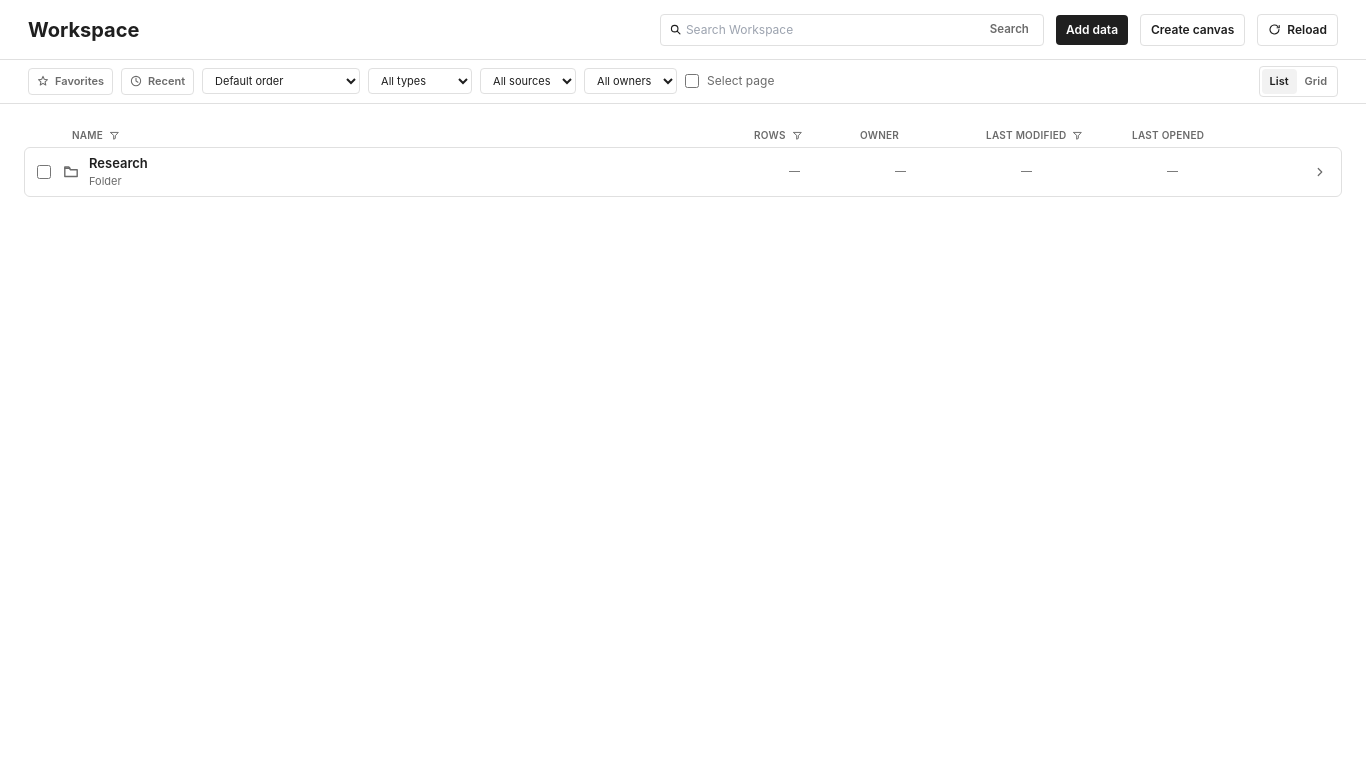
WorkspaceExplorer › exposes both add-data choices directly from All Workspace
This screenshot has width=1366, height=768.
Click the button with test id "workspace-add-data": (1092, 30) [1056,14,1128,44]
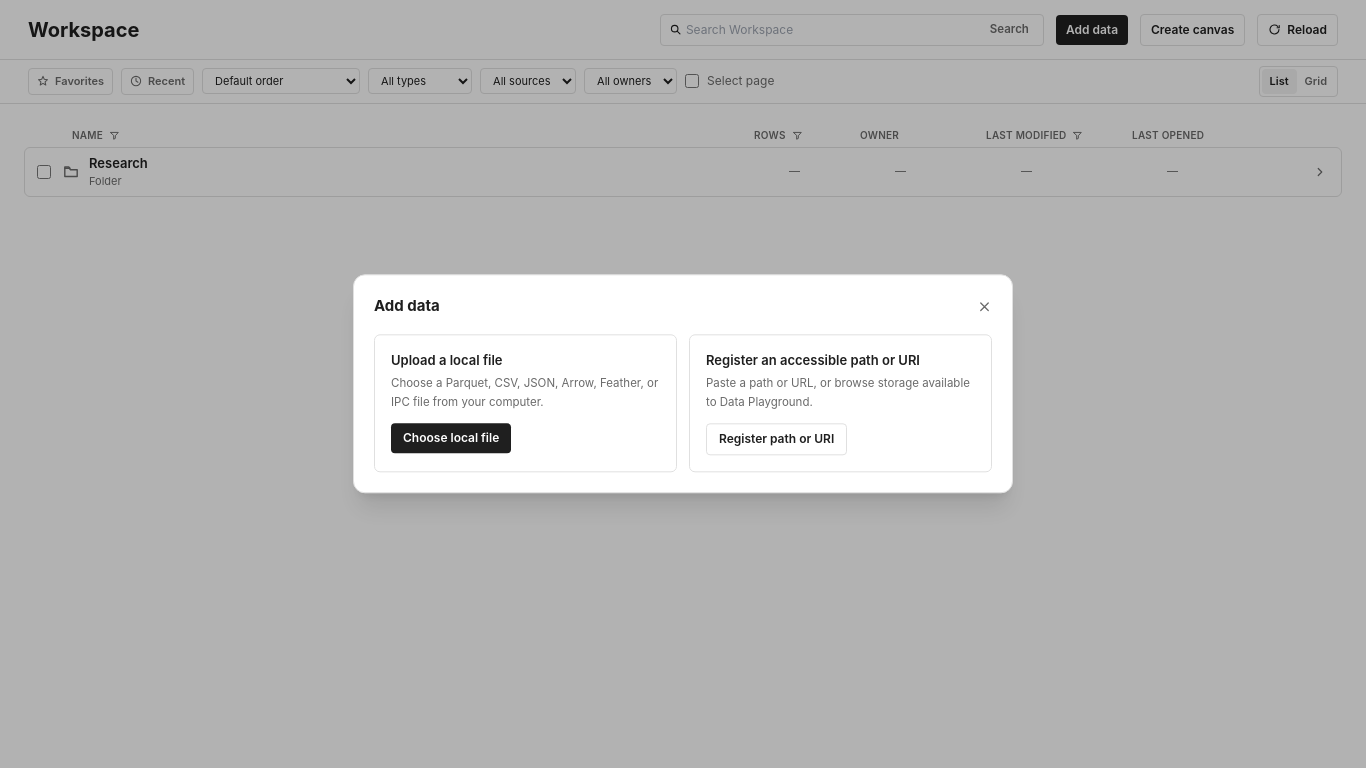
Now the dialog "Add data" shows "Upload a local file", box [391,352,502,368]
Now the dialog "Add data" shows "Register an accessible path or URI", box [706,352,920,368]
